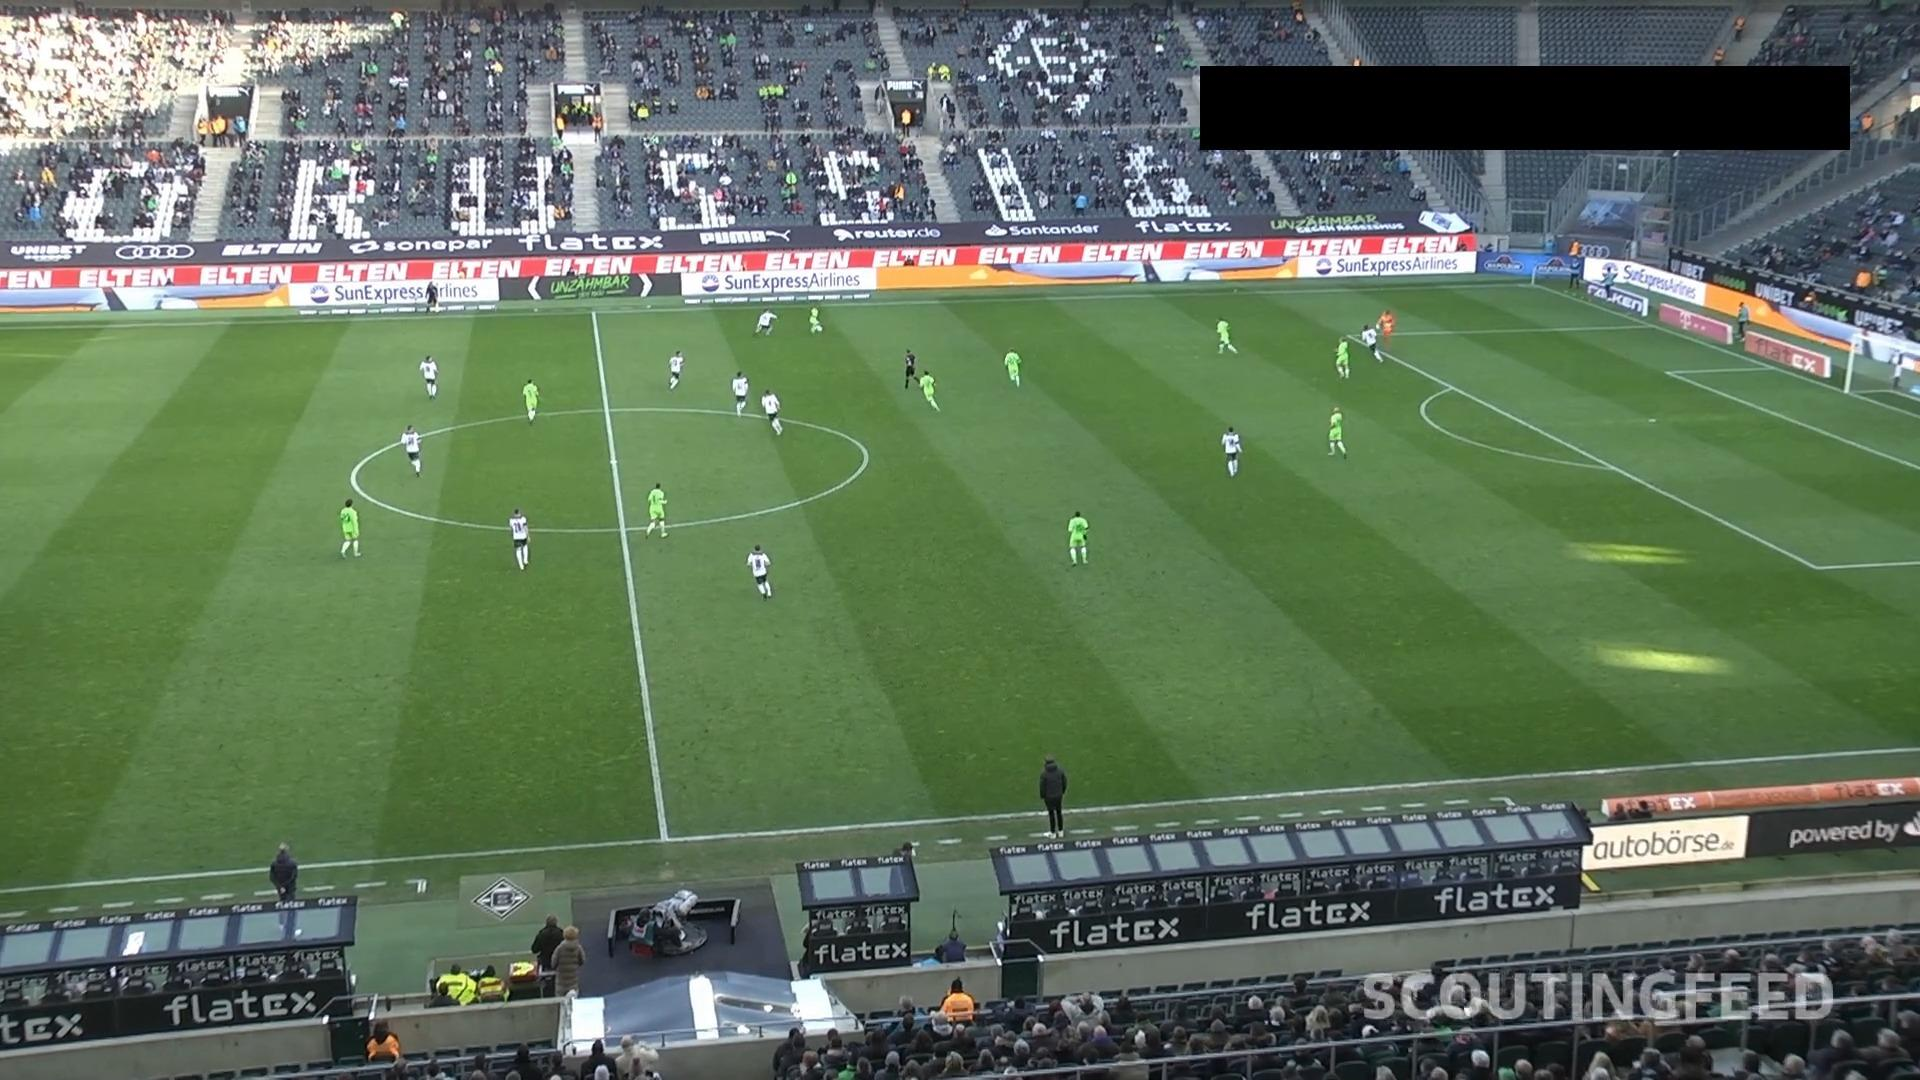coach: (530, 913, 564, 996), (551, 924, 585, 997), (1038, 755, 1067, 838), (269, 841, 298, 901)
player: (746, 544, 772, 599), (338, 497, 361, 558), (644, 481, 668, 538), (508, 507, 529, 570), (1066, 510, 1089, 565), (399, 423, 422, 476), (1326, 405, 1347, 458), (759, 388, 782, 435), (1220, 425, 1241, 476), (1359, 321, 1383, 361), (917, 368, 939, 411), (1214, 317, 1237, 355), (419, 354, 438, 398), (730, 370, 748, 416), (521, 378, 538, 423), (1333, 336, 1350, 379), (1002, 349, 1021, 387), (667, 348, 683, 389), (753, 308, 776, 335), (1377, 308, 1395, 337), (808, 306, 823, 334)
referee: (901, 348, 916, 389), (424, 280, 439, 313)
